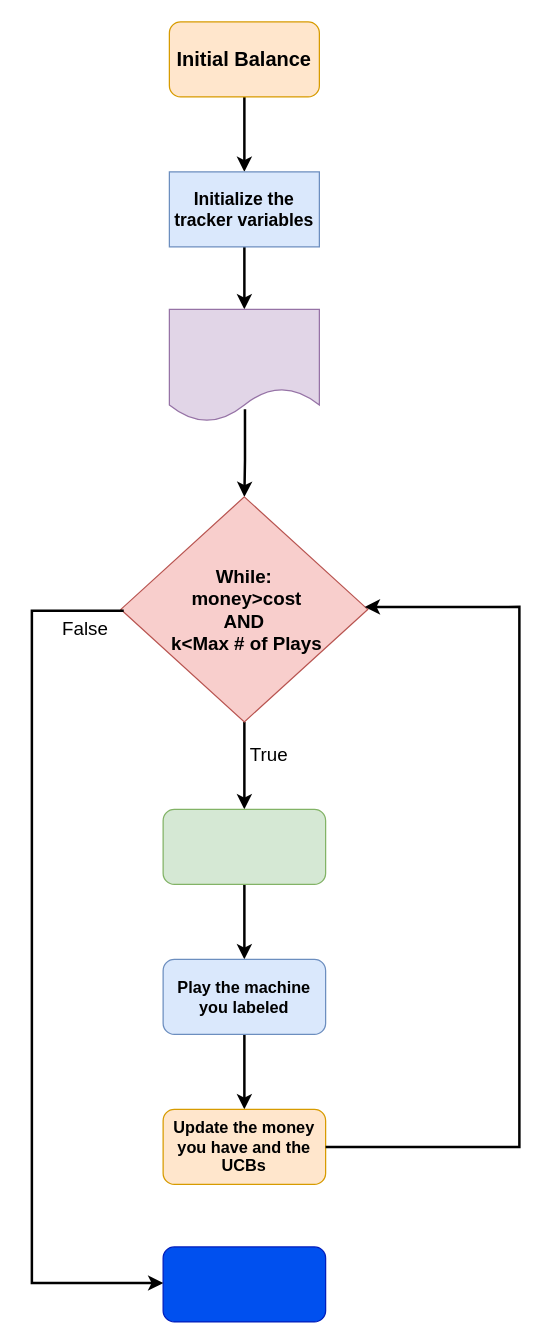
This 551x1344 diagram has some shape labels left out. The shapes that lost their labels are listed below. From the top down, each one's box as (x1, y1, x2, y2) in pixels, then its label:
(168, 308, 319, 422): Play every machine once and update the UCBs
(162, 808, 326, 884): Label the machine with the highest current UCB
(162, 1246, 326, 1322): END
